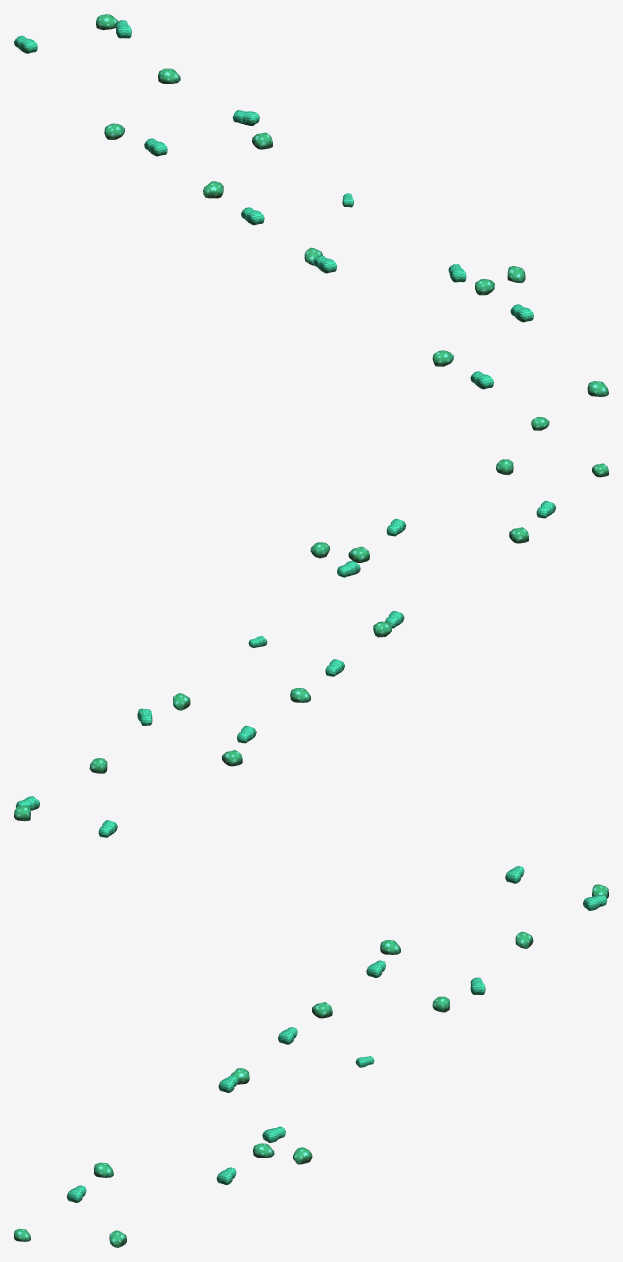
Rendered from stoneB.fbx.
The picture shows the model from 3 angles, top to bottom: view 1: azimuth 30°, elevation 25°; view 2: azimuth 150°, elevation 25°; view 3: azimuth 330°, elevation 25°; orthographic projection. The views are drawn at different scales.
Visible parts, largest first — view 1: stoneB; view 2: stoneB; view 3: stoneB.
Boxes of the visible parts, box(x1,y1,x2,y2) form: stoneB: box(14, 14, 608, 430); stoneB: box(14, 459, 608, 837); stoneB: box(14, 866, 608, 1247).
Bounding box in the file's own units: 918 × 61.06 × 4868.
